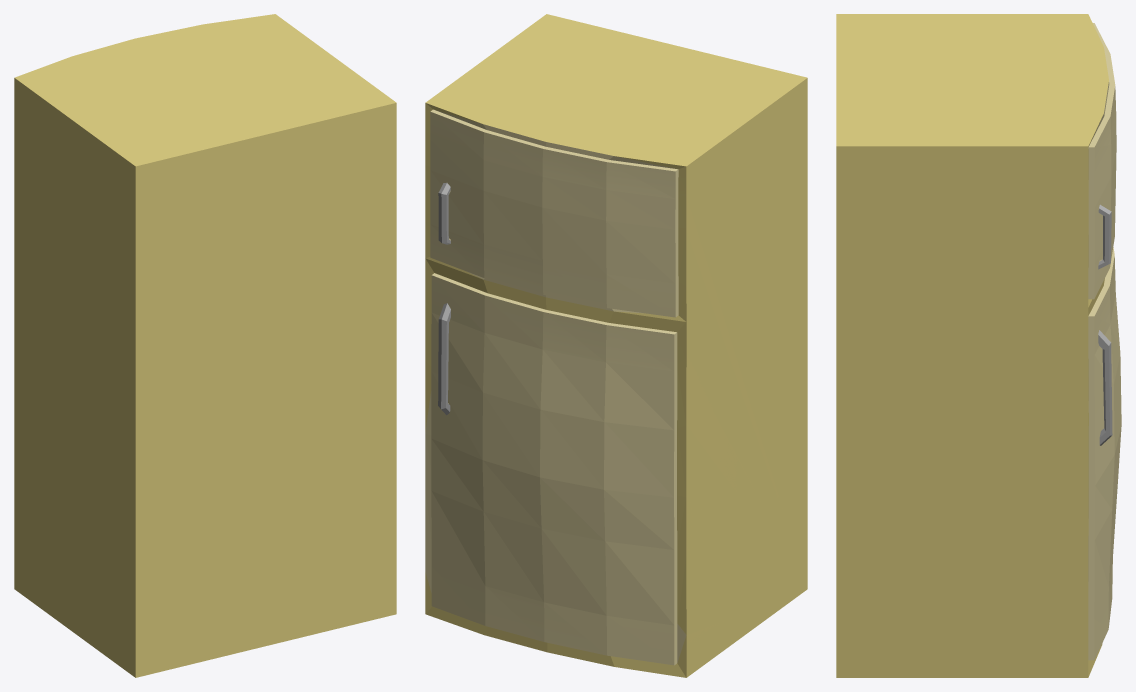
File: Fridge.fbx
3 views of the same model, side by side, from view 1: azimuth 30°, elevation 25°; view 2: azimuth 150°, elevation 25°; view 3: azimuth 270°, elevation 25° (orthographic). The views are drawn at different scales.
Visible parts, largest first — view 1: Fridge:Refrigerator; view 2: Fridge:Refrigerator; view 3: Fridge:Refrigerator.
Part boxes in pixels (x1=…): Fridge:Refrigerator: x1=14, y1=14, x2=396, y2=677; Fridge:Refrigerator: x1=425, y1=14, x2=807, y2=677; Fridge:Refrigerator: x1=836, y1=14, x2=1121, y2=677.
Size of the model in its own units: 282 by 529 by 257.
